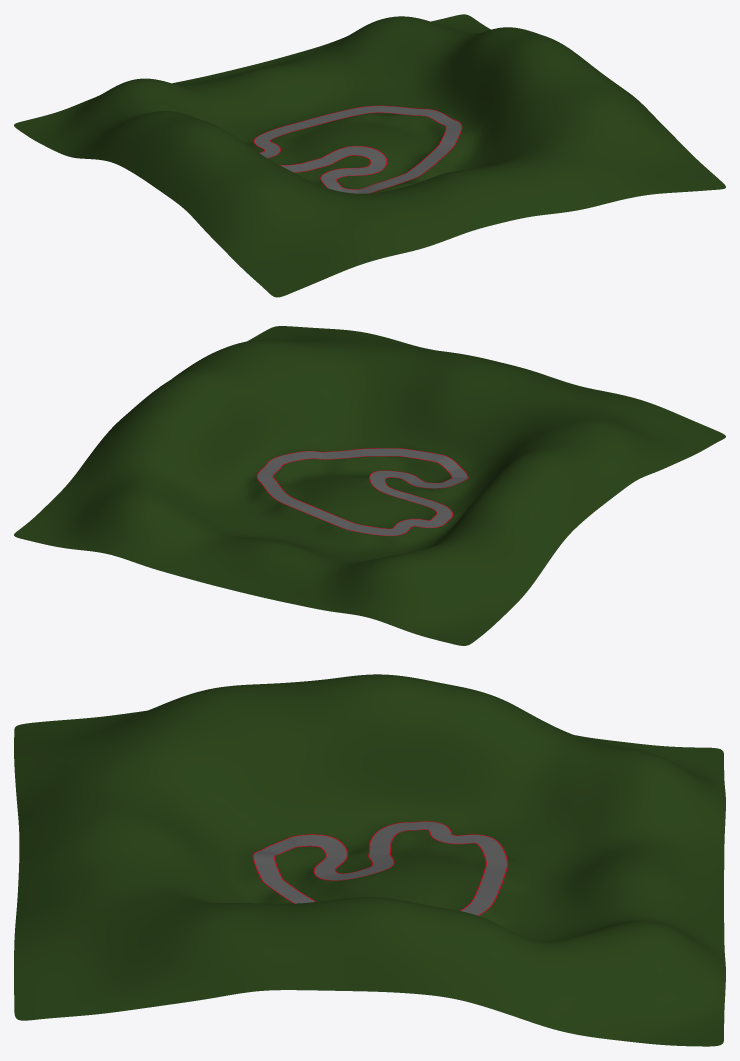
The model's file is TestTrack.fbx.
3 views of the same model, one above another, from view 1: azimuth 30°, elevation 25°; view 2: azimuth 150°, elevation 25°; view 3: azimuth 270°, elevation 25° (orthographic). The views are drawn at different scales.
Visible parts, largest first — view 1: Plane, Cube; view 2: Plane, Cube; view 3: Plane, Cube.
Part boxes in pixels (box(x1,y1,x2,y2)): Plane: box(14, 14, 725, 297); Cube: box(253, 105, 462, 193); Plane: box(14, 326, 725, 645); Cube: box(256, 448, 468, 536); Plane: box(14, 674, 725, 1046); Cube: box(252, 821, 508, 915).
Size of the model in its own units: 75015 by 12315 by 75444.
